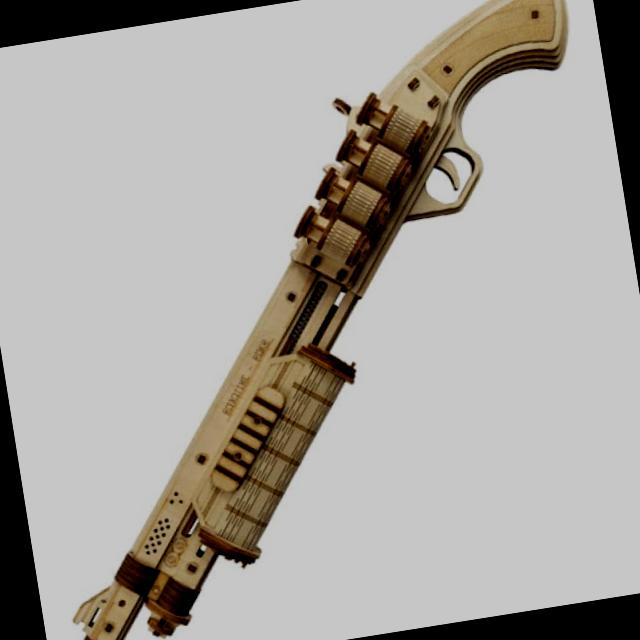long weapon: (45, 0, 585, 640)
